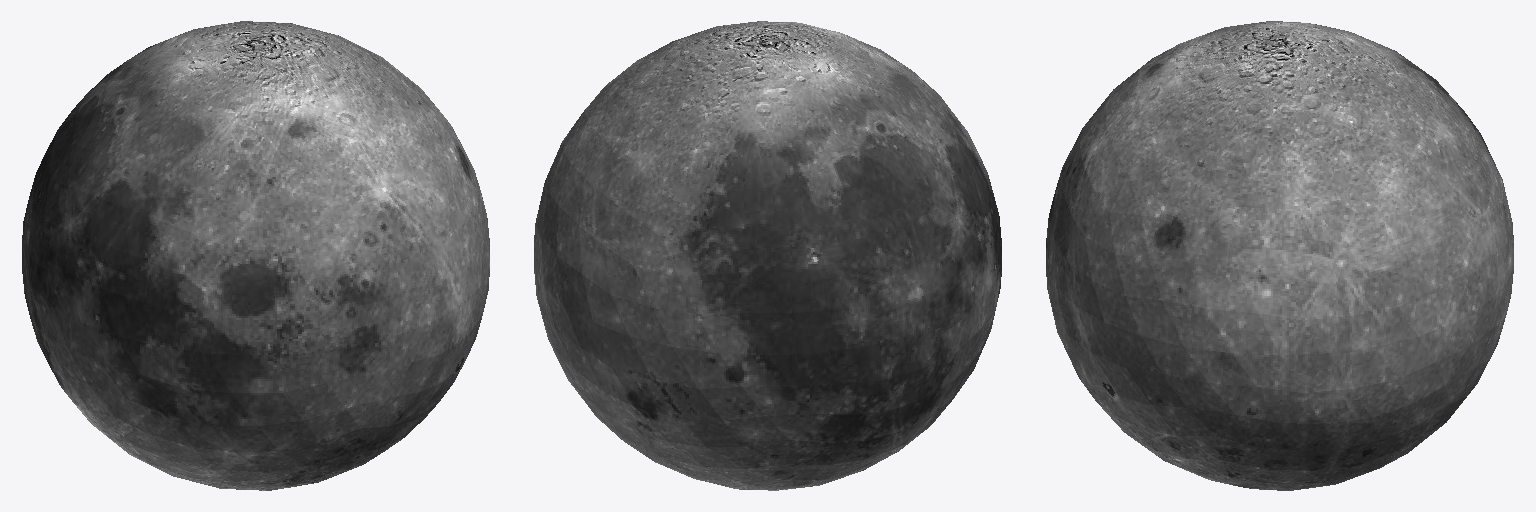
3 views of the same model, side by side, from view 1: azimuth 30°, elevation 25°; view 2: azimuth 150°, elevation 25°; view 3: azimuth 270°, elevation 25° (orthographic).
Size of the model in its own units: 2 by 2 by 1.99.
Materials: 1 (1 with a texture image).